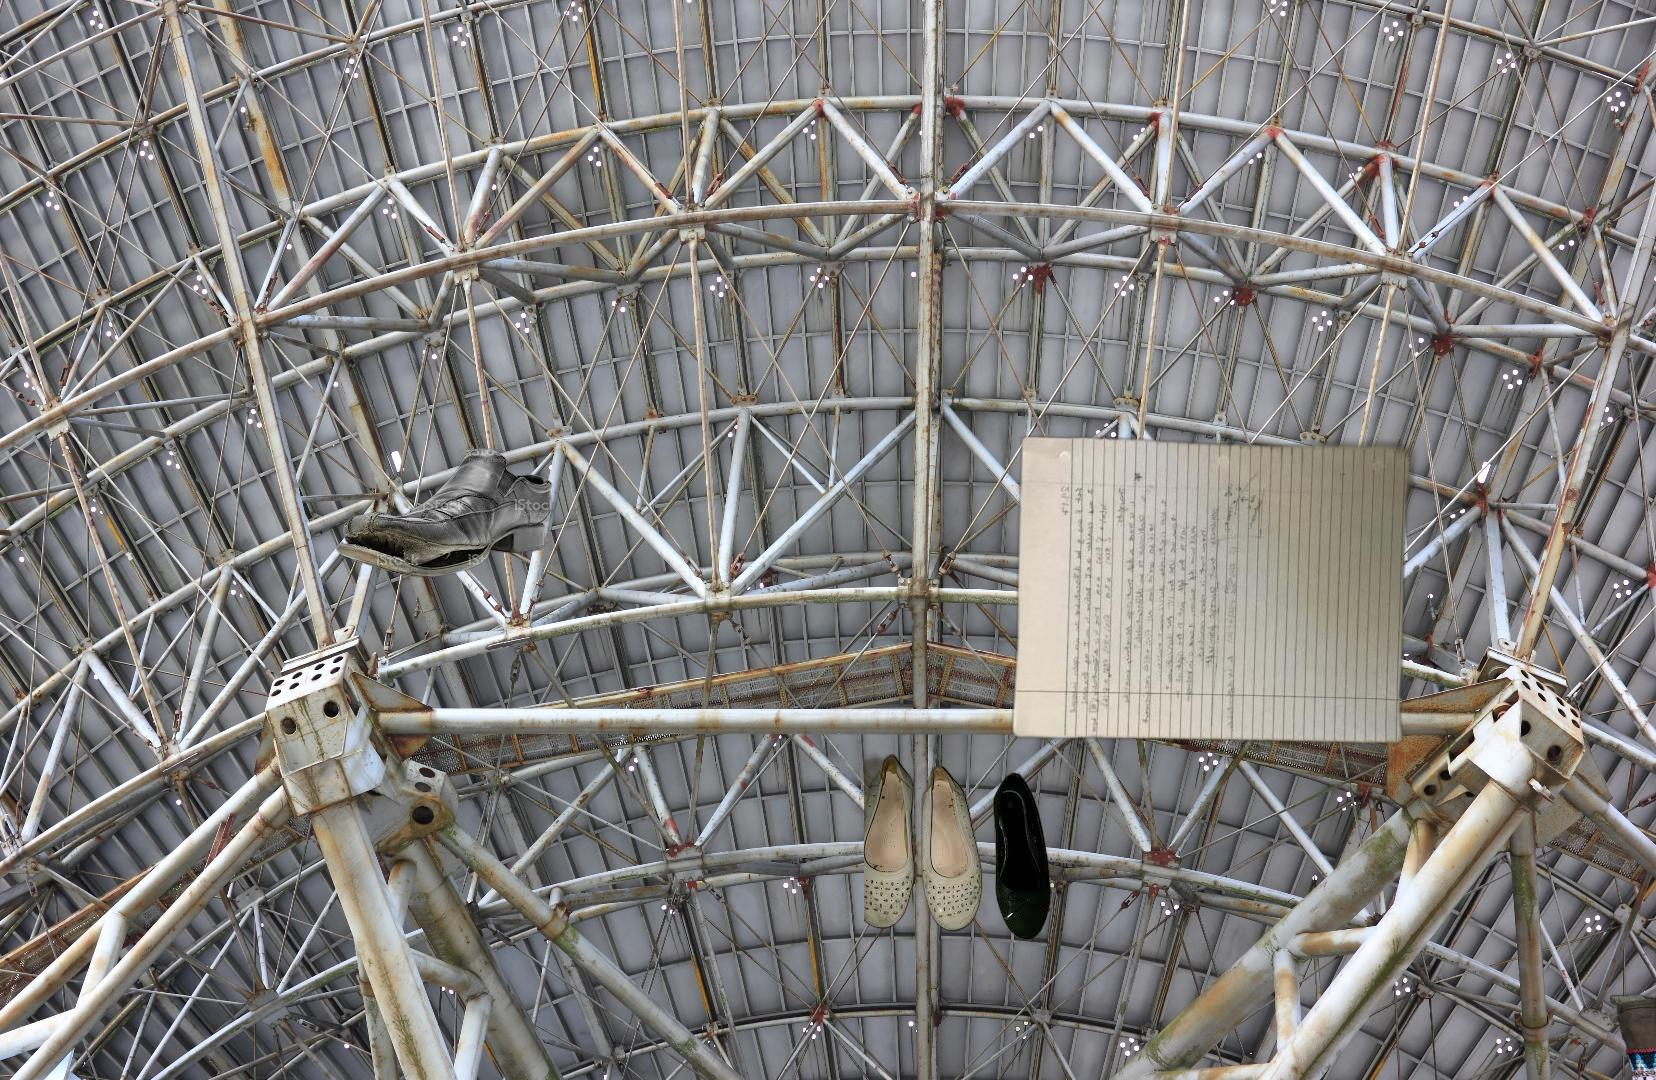paper: (1008, 418, 1427, 748)
shoes: (864, 746, 1054, 942), (333, 445, 558, 580), (1610, 983, 1656, 1080)
